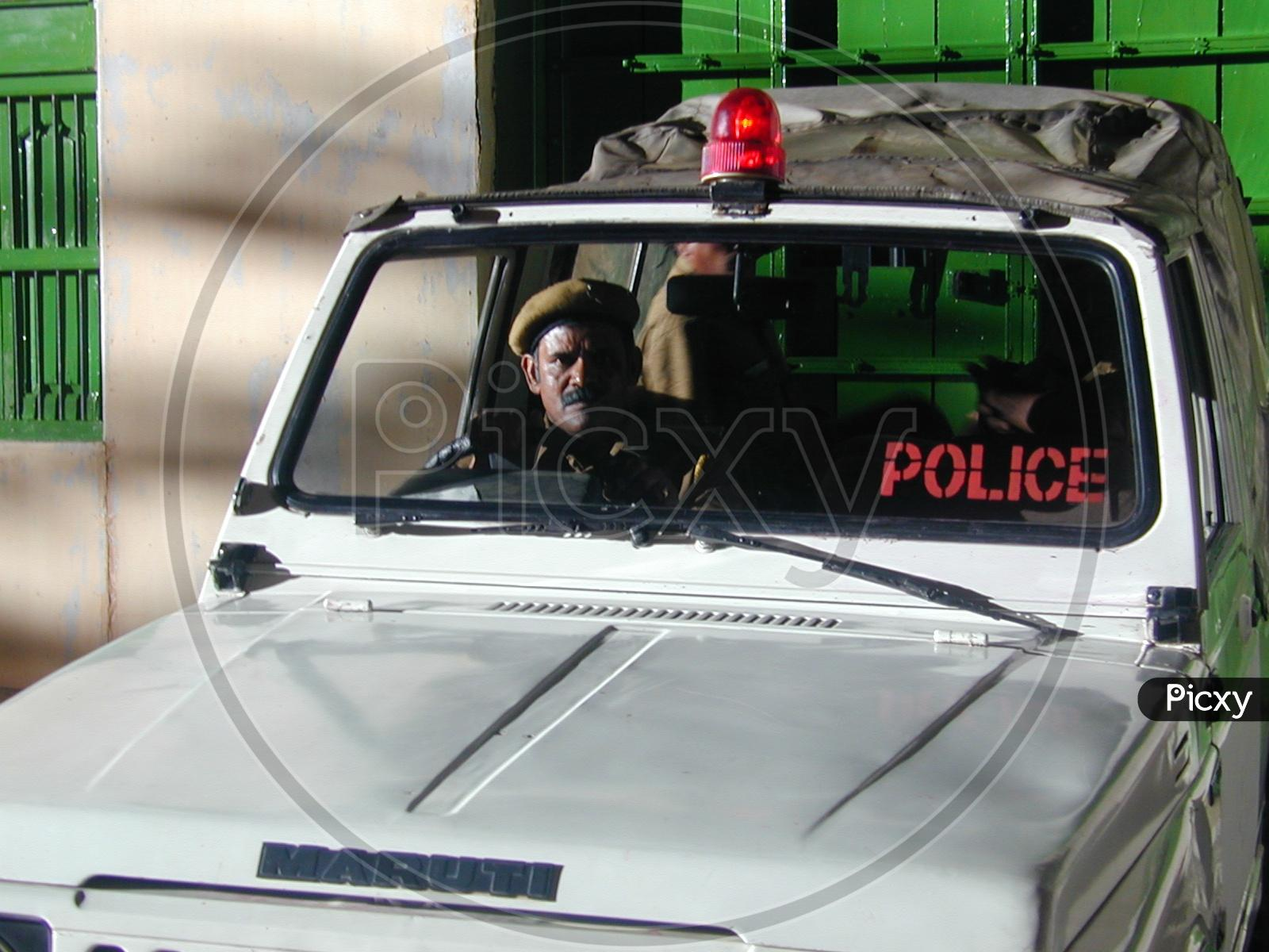Emergency-Vehicles: (255, 78, 1269, 952), (283, 123, 295, 130)
